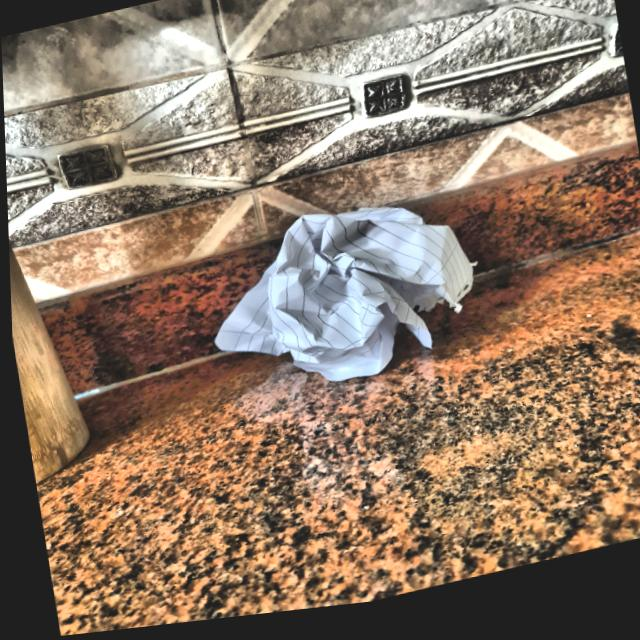Paper: (202, 187, 489, 425)
